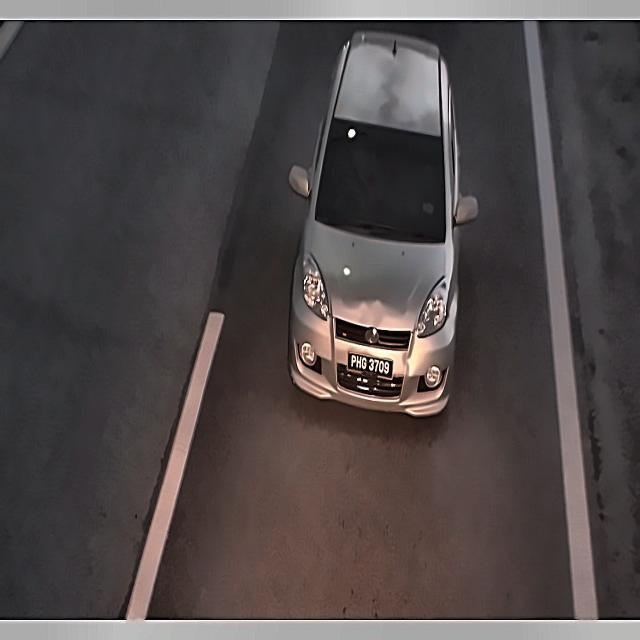car: (342, 347, 400, 382)
